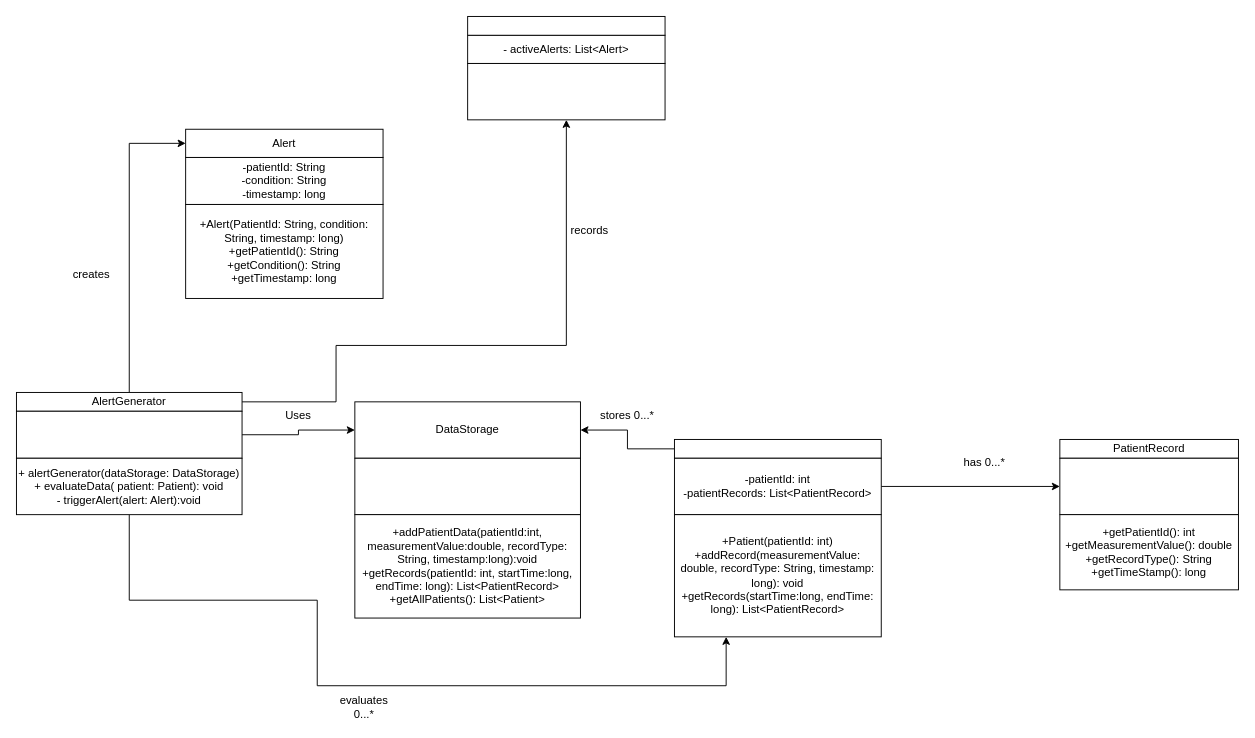
This 1255x738 diagram has some shape labels left out. Each missing label, with the centre of its shape:
+recordAlert(alert:Alert):void: point (566, 91)
- dataStorage: DataStorage: point (129, 434)
-patientId: int -measurementValue: double -recordType: String -timestamp: long: point (1148, 486)
-patientMap: Map<Integer, Patient>: point (467, 486)
AlertManager: point (566, 25)
Patient: point (777, 448)
